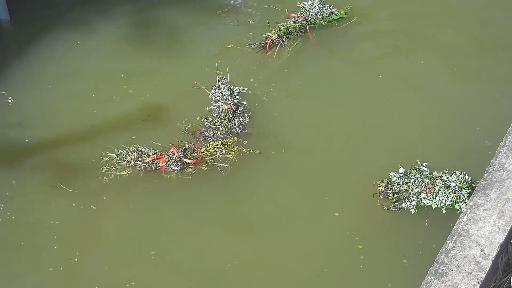twig: (246, 0, 391, 70), (87, 147, 290, 181), (374, 163, 496, 218), (204, 68, 253, 140)
